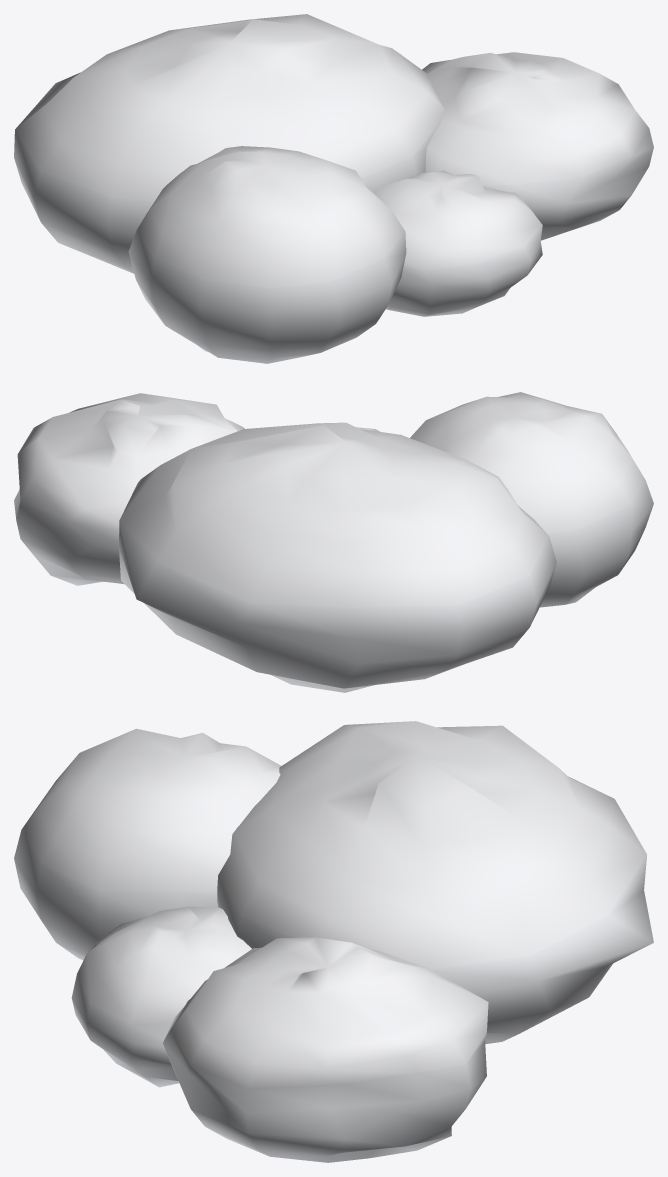
Rendered from bush-65_col.fbx.
The picture shows the model from 3 angles, top to bottom: view 1: azimuth 30°, elevation 25°; view 2: azimuth 150°, elevation 25°; view 3: azimuth 270°, elevation 25°; orthographic projection. The views are drawn at different scales.
Visible parts, largest first — view 1: bush-65.col; view 2: bush-65.col; view 3: bush-65.col.
Part boxes in pixels (bbox=[...]): bush-65.col: bbox=[14, 14, 653, 363]; bush-65.col: bbox=[14, 392, 653, 692]; bush-65.col: bbox=[14, 721, 653, 1162].
Bounding box in the file's own units: 0.4241 × 0.1607 × 0.3695.
Materials: 1 (1 with a texture image).
